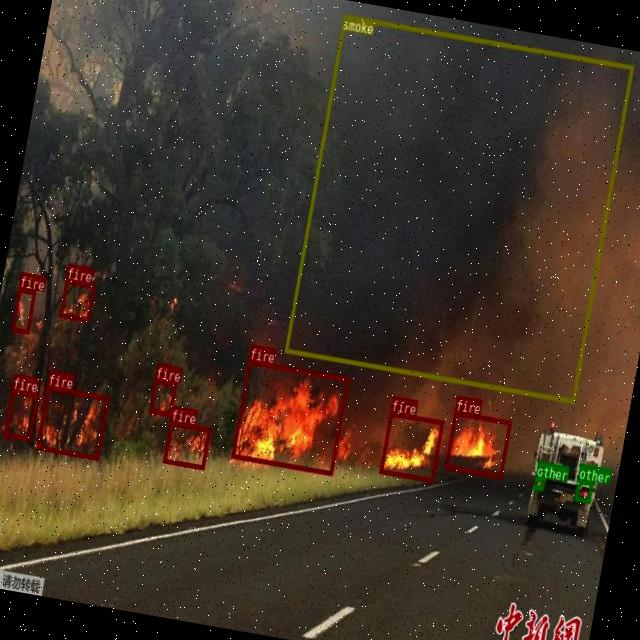fire: (230, 359, 349, 474), (35, 385, 108, 459), (378, 409, 444, 482), (444, 410, 511, 477), (162, 419, 210, 468), (2, 388, 38, 440), (59, 278, 95, 321), (10, 286, 36, 332), (148, 378, 176, 415)
smoke: (284, 14, 634, 402)
